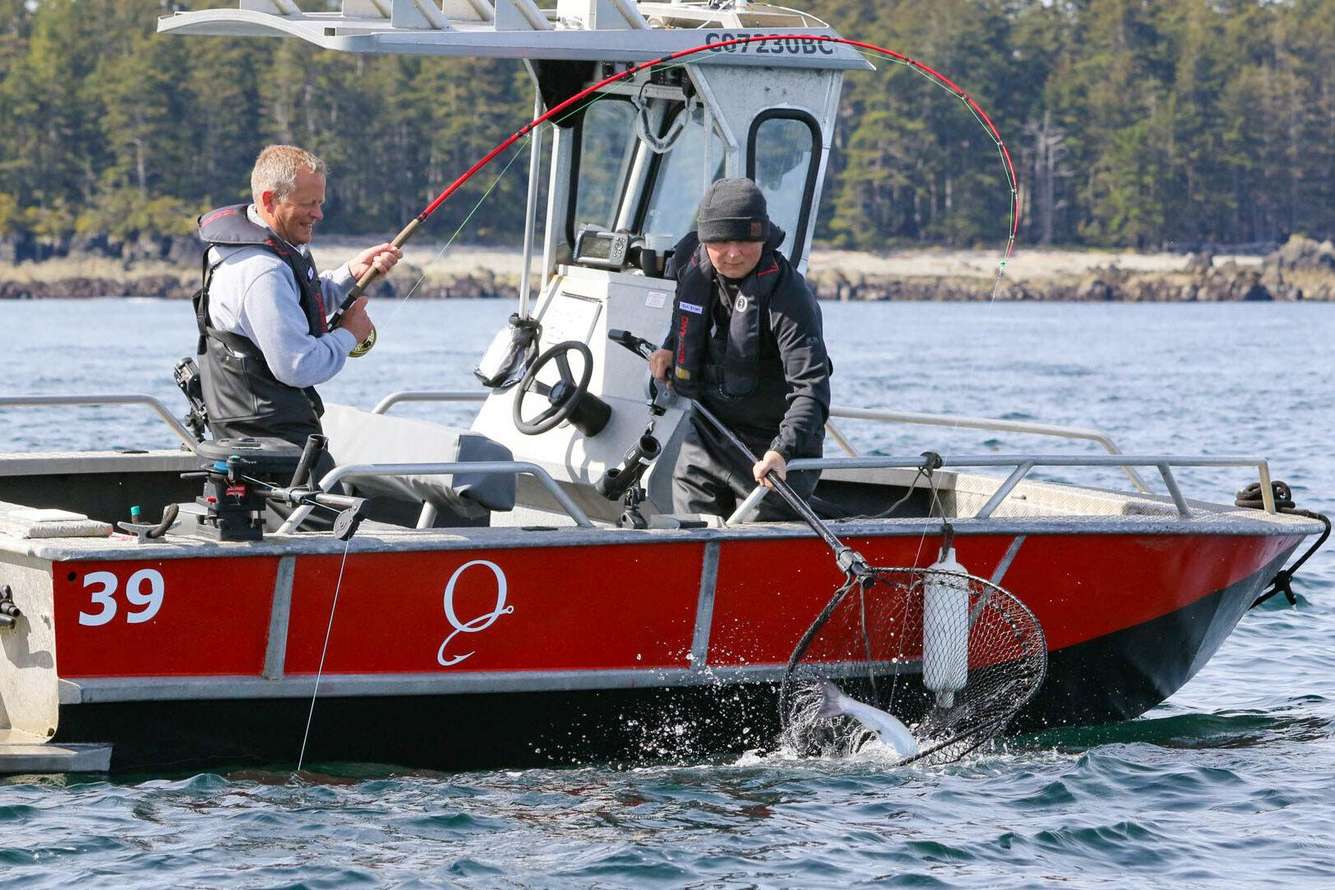fishing boat: (2, 2, 1335, 777)
